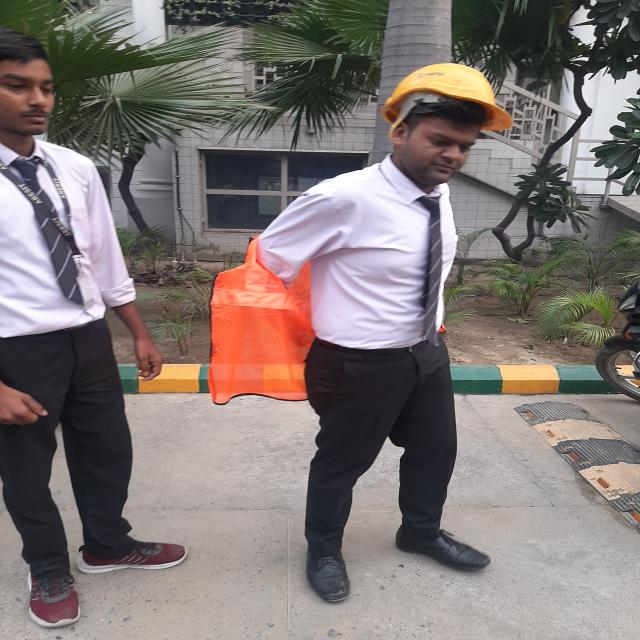no jacket: (287, 54, 498, 591)
unsafe: (6, 36, 146, 630)
